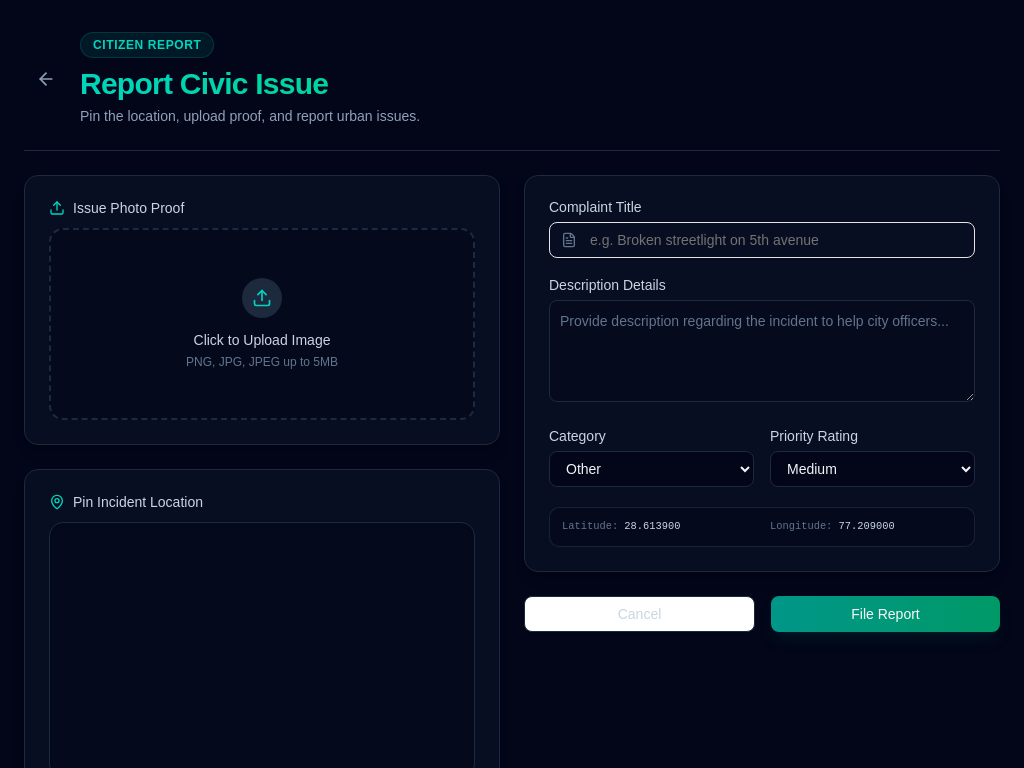
it: ReportIssue Page — form validation › shows title validation error when title is too short
Type "Hi" into the field labelled "Complaint Title" at x=762, y=240, box [549,222,975,258]
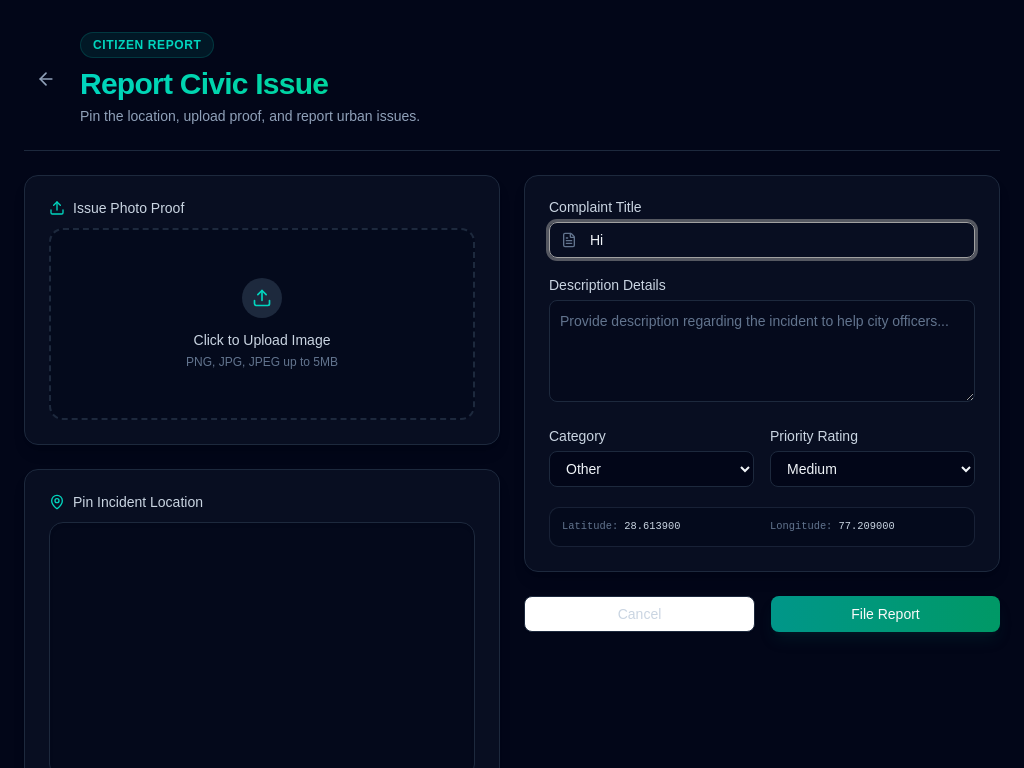
Click the button "File Report" at x=886, y=614, box [771,596,1000,632]
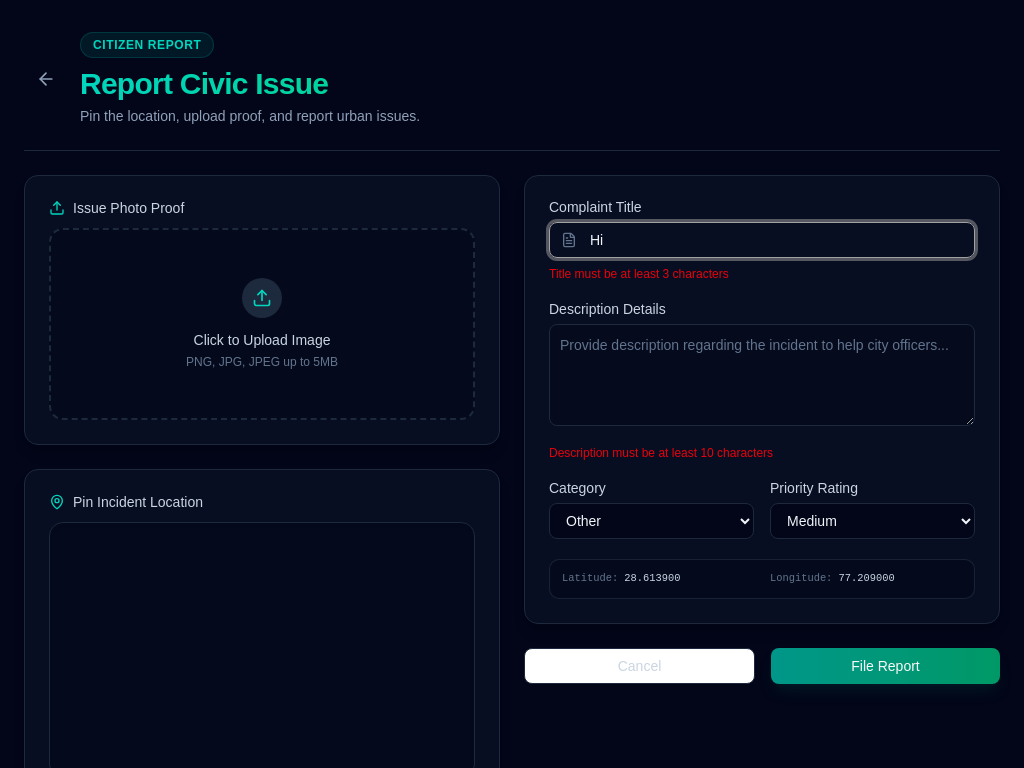
expect the text "Title must be at least 3 characters" is shown: met, box [549,267,729,281]
